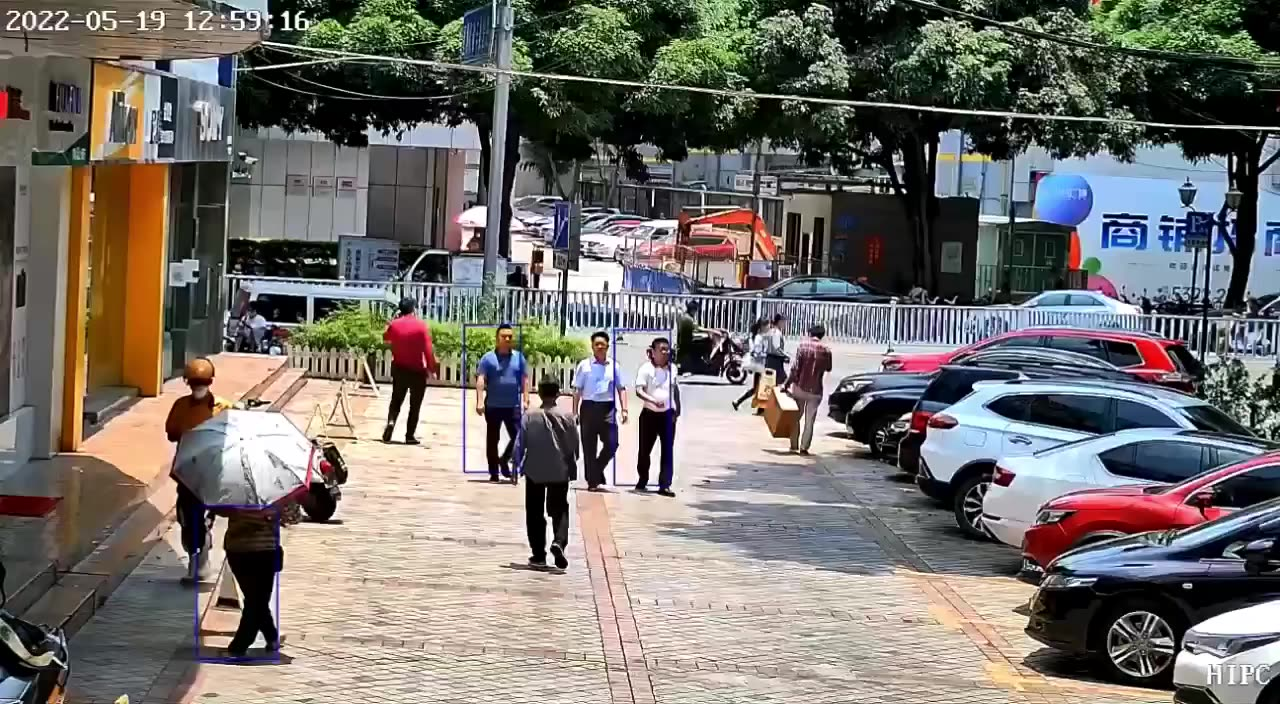Car: (918, 379, 1253, 537), (1026, 499, 1280, 685), (982, 428, 1280, 549), (1021, 449, 1280, 578), (897, 363, 1143, 475), (881, 326, 1204, 396), (827, 347, 1118, 424), (1173, 600, 1280, 704), (227, 280, 401, 338), (719, 274, 905, 304), (847, 386, 922, 456), (672, 327, 748, 385), (392, 248, 508, 285), (987, 289, 1144, 314), (303, 438, 348, 521), (636, 231, 739, 265), (615, 219, 678, 261), (1193, 292, 1280, 319), (580, 223, 638, 256), (584, 226, 638, 261), (882, 413, 911, 465)
